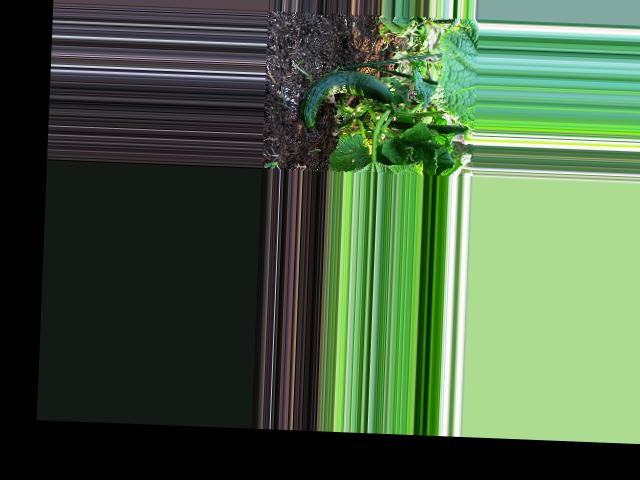cucumber: (299, 68, 394, 131)
